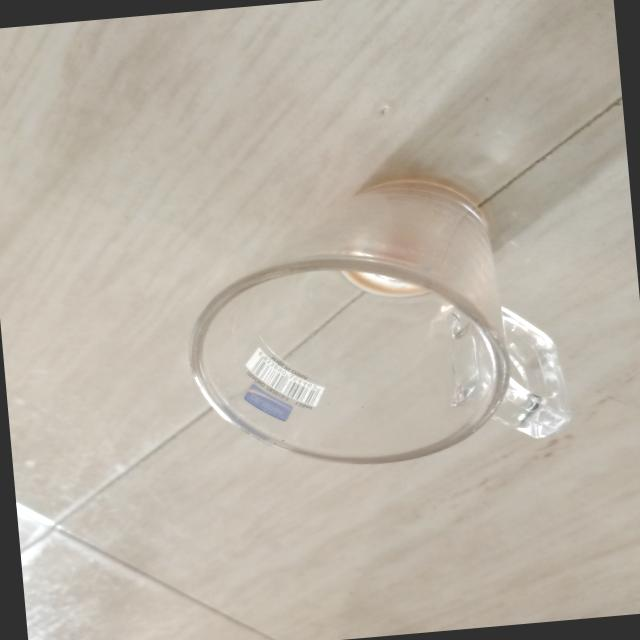glass-VX4N: (173, 161, 573, 480)
